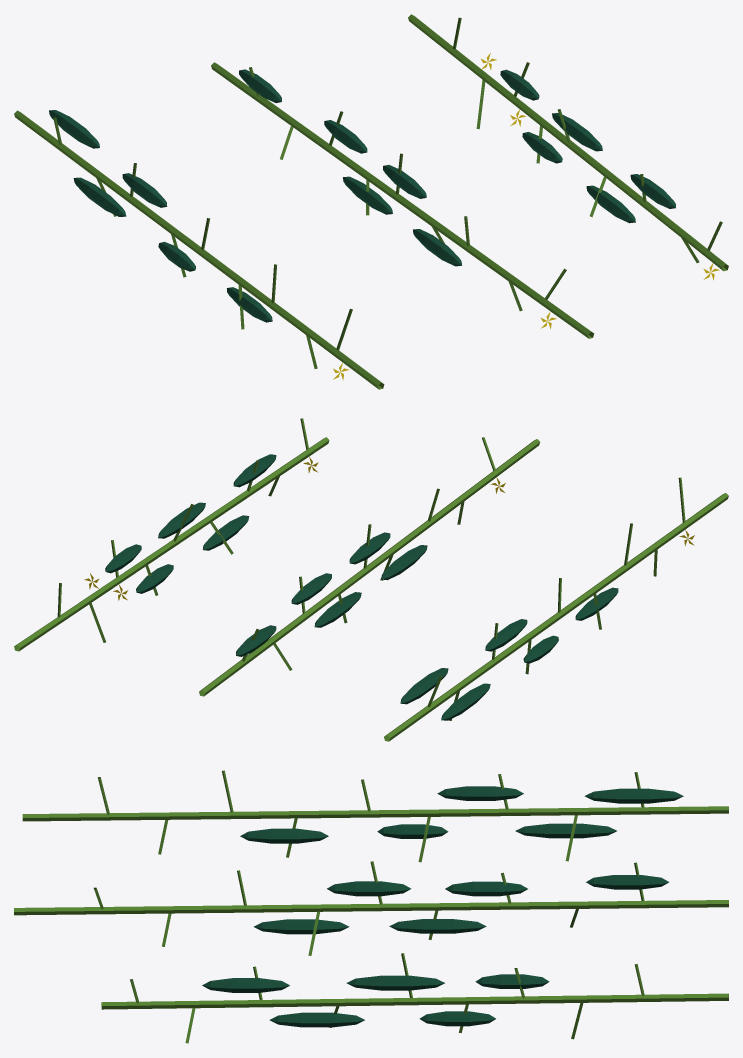
File: r27c5_stems.obj
3 views of the same model, one above another, from view 1: azimuth 30°, elevation 25°; view 2: azimuth 150°, elevation 25°; view 3: azimuth 270°, elevation 25° (orthographic). The views are drawn at different scales.
Parts seen in each view (by area): view 1: r27c5_stems; view 2: r27c5_stems; view 3: r27c5_stems.
Part boxes in pixels (x1=…): r27c5_stems: x1=14, y1=14, x2=728, y2=389; r27c5_stems: x1=14, y1=418, x2=728, y2=741; r27c5_stems: x1=14, y1=770, x2=728, y2=1043.
Size of the model in its own units: 1.32 by 0.2868 by 2.02.
